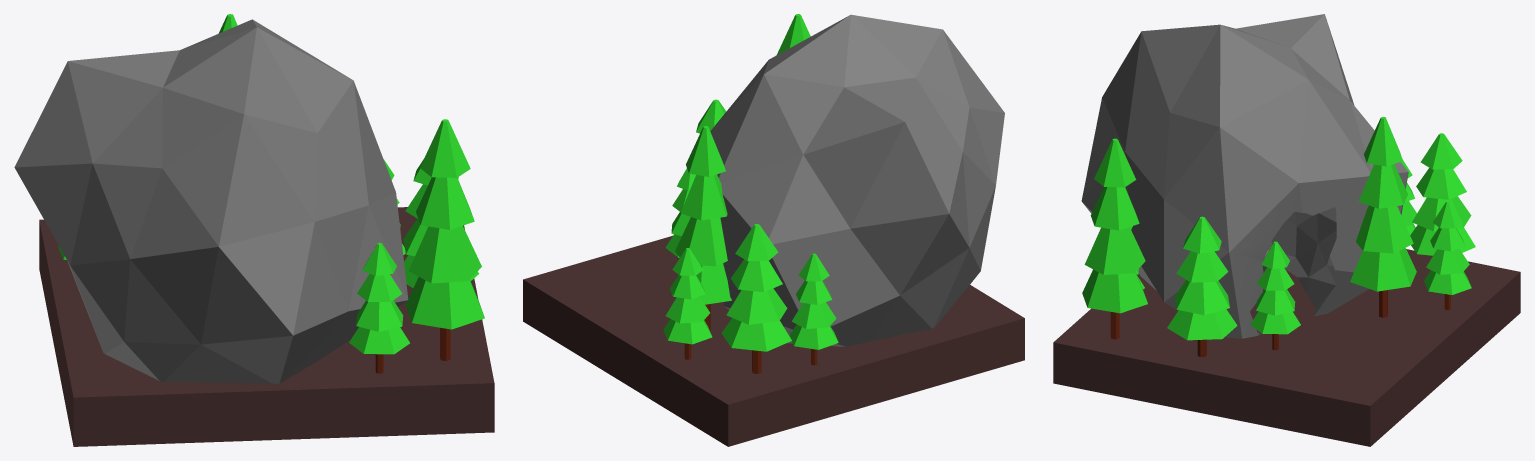
File: Sigbin-Kweba.fbx
3 views of the same model, side by side, from view 1: azimuth 30°, elevation 25°; view 2: azimuth 150°, elevation 25°; view 3: azimuth 270°, elevation 25° (orthographic). The views are drawn at different scales.
Visible parts, largest first — view 1: Cube; view 2: Cube; view 3: Cube.
Boxes of the visible parts, x1=… form: Cube: x1=14, y1=14, x2=494, y2=446; Cube: x1=523, y1=14, x2=1024, y2=446; Cube: x1=1053, y1=14, x2=1520, y2=446.
Bounding box in the file's own units: 774 × 554 × 774.
